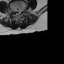CCS_severe_stenosis: (17, 10, 19, 17)
LFS_normal: (20, 7, 22, 13)
LLS_normal: (19, 8, 20, 16)
RFS_severe_stenosis: (14, 9, 15, 15)
RLS_normal: (15, 9, 17, 17)
